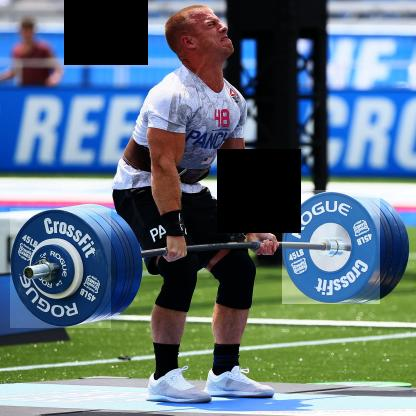barbell: (11, 209, 112, 329), (283, 191, 381, 305)
